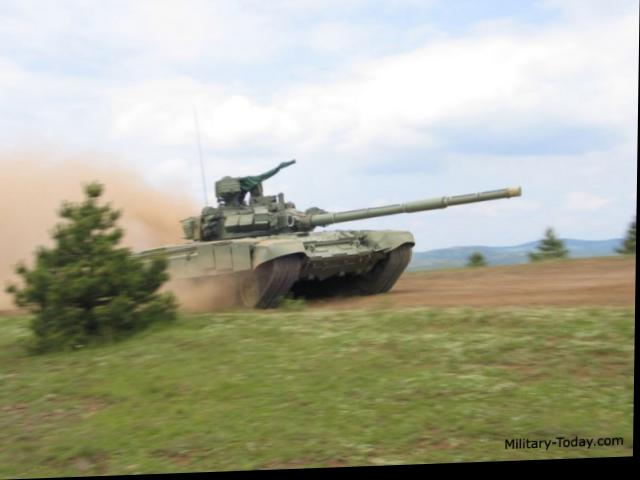tank: (114, 155, 421, 317)
